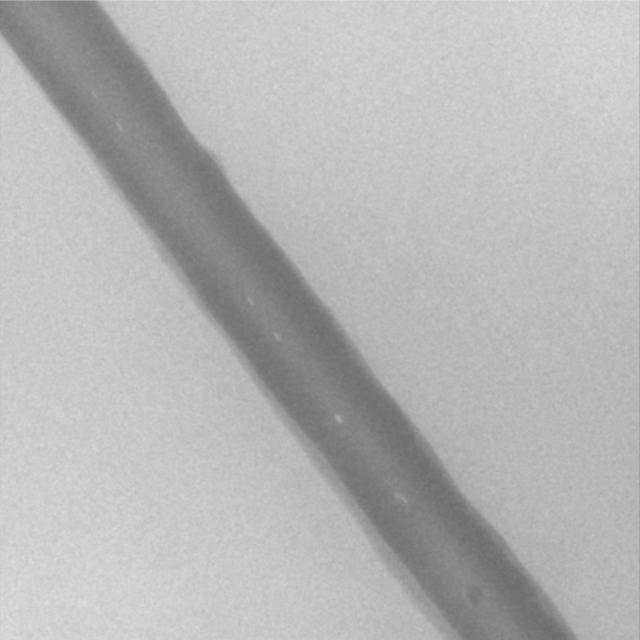air hole: (272, 331, 283, 343), (247, 294, 255, 307), (334, 413, 343, 424), (114, 122, 123, 133)
